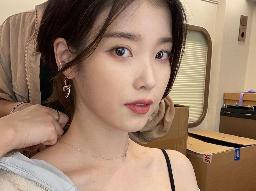face: (84, 5, 172, 133)
